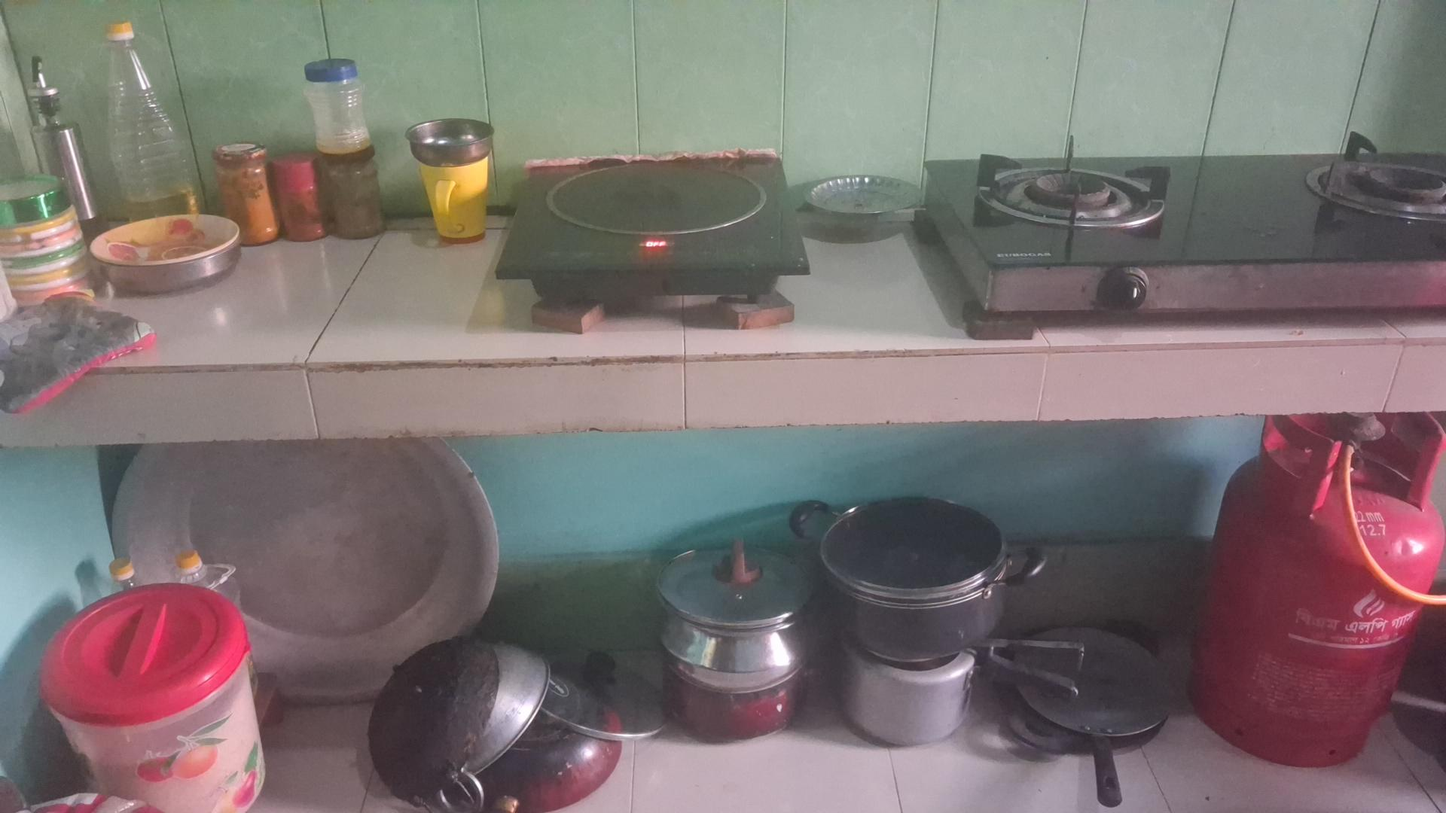Bottle: (93, 26, 202, 219)
Jar: (295, 56, 377, 160)
Pot: (790, 496, 1050, 663)
